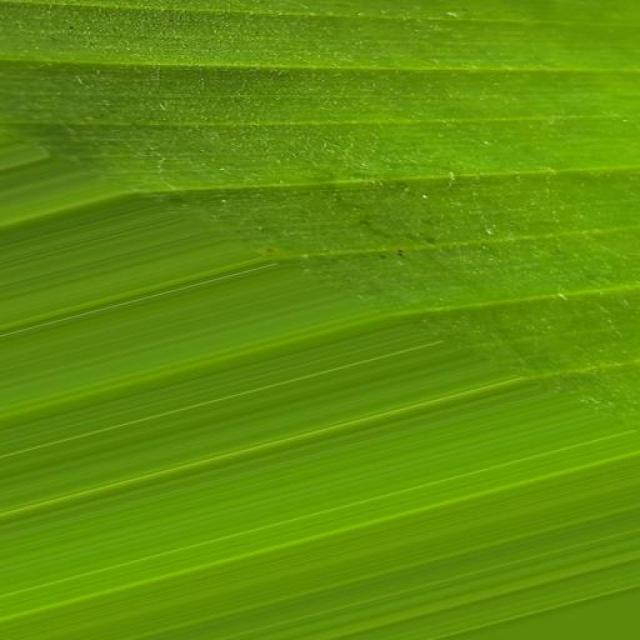Black_leaf_spot: (5, 9, 640, 608)
